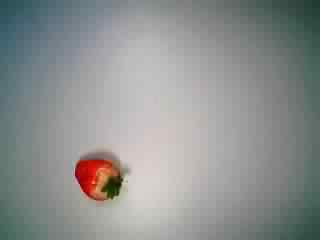strawberry: (65, 144, 133, 208)
